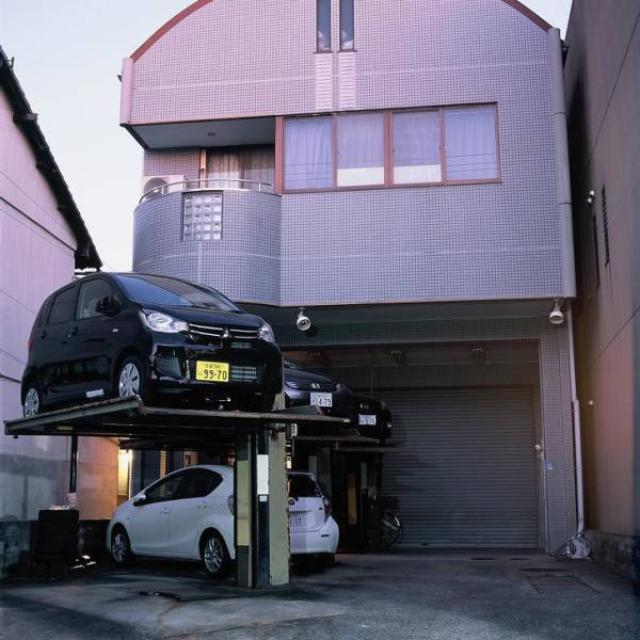car: (9, 267, 280, 430), (108, 465, 342, 577), (283, 355, 350, 420), (356, 397, 392, 444)
